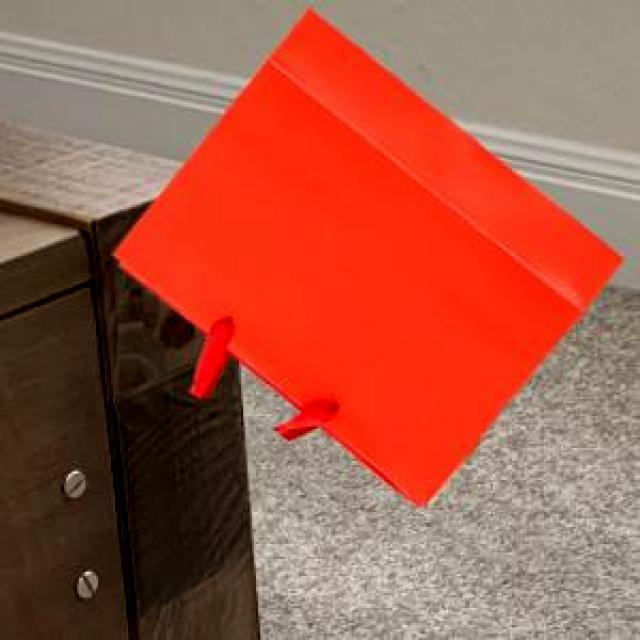Paper_Bag: (112, 5, 620, 502)
